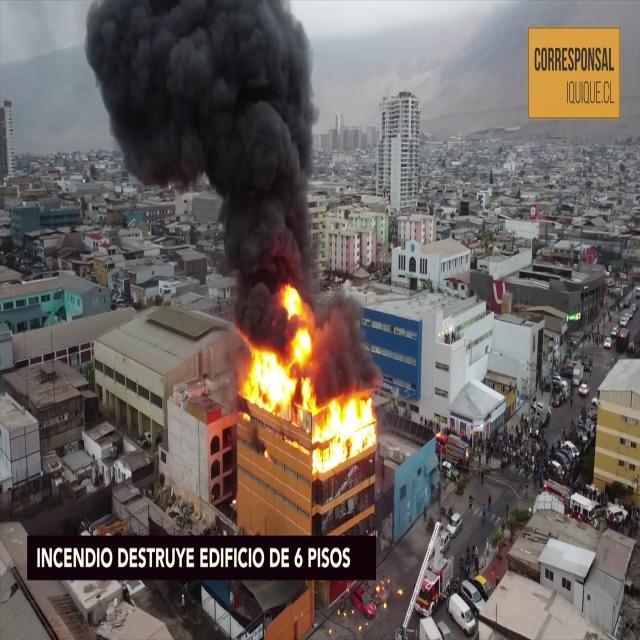Fire: (240, 285, 316, 415), (310, 385, 380, 474)
Smoke: (85, 0, 332, 306)
